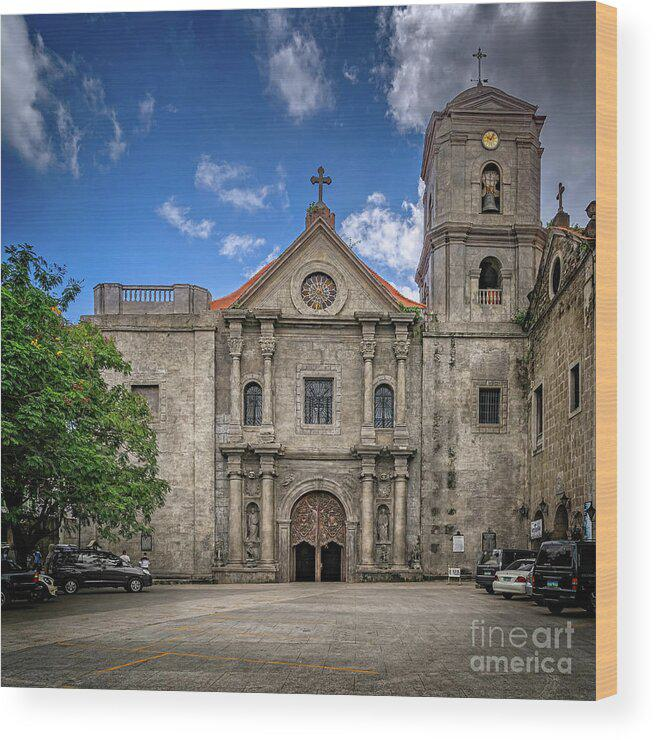Environmental Damage: (396, 301, 426, 337), (512, 355, 532, 395), (509, 305, 534, 335)
San Agustin Church: (215, 47, 549, 588)
